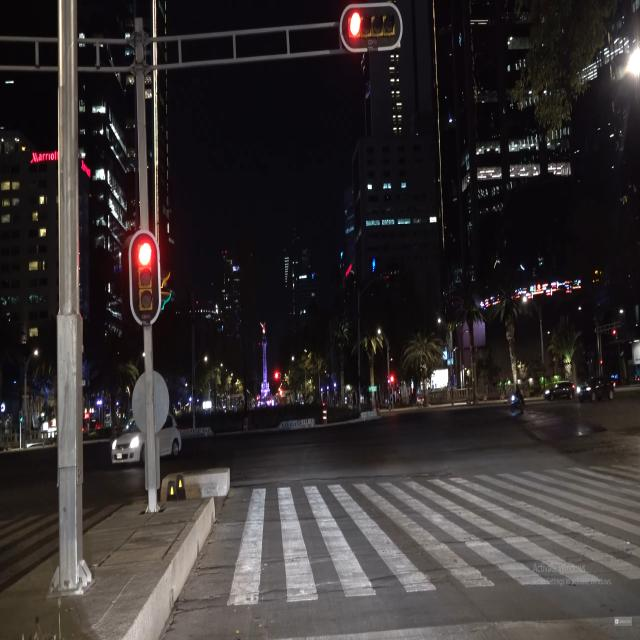headlights: (103, 434, 141, 454)
